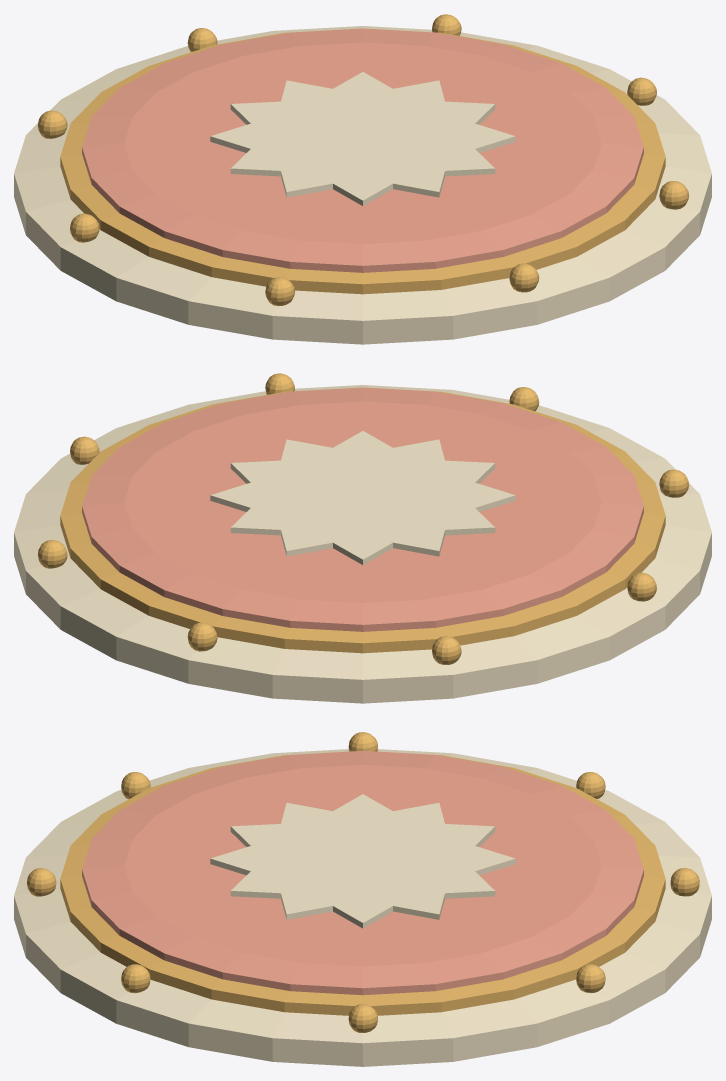
File: Sun_cooperation_pedestal.obj
3 views of the same model, one above another, from view 1: azimuth 30°, elevation 25°; view 2: azimuth 150°, elevation 25°; view 3: azimuth 270°, elevation 25° (orthographic).
Visible parts, largest first — view 1: Colored_ceramic, Carved_base, Raised_Sun, Inset_brass, Brass_rivet; view 2: Colored_ceramic, Carved_base, Raised_Sun, Inset_brass, Brass_rivet; view 3: Colored_ceramic, Carved_base, Raised_Sun, Inset_brass, Brass_rivet.
Boxes of the visible parts, bbox=[...] form: Colored_ceramic: bbox=[82, 28, 643, 272]; Carved_base: bbox=[14, 26, 711, 344]; Raised_Sun: bbox=[210, 72, 515, 205]; Inset_brass: bbox=[60, 28, 665, 294]; Brass_rivet: bbox=[38, 14, 689, 306]; Colored_ceramic: bbox=[82, 387, 643, 631]; Carved_base: bbox=[14, 385, 711, 703]; Raised_Sun: bbox=[210, 431, 515, 564]; Inset_brass: bbox=[60, 387, 665, 653]; Brass_rivet: bbox=[37, 373, 689, 664]; Colored_ceramic: bbox=[82, 751, 643, 995]; Carved_base: bbox=[14, 749, 711, 1066]; Raised_Sun: bbox=[210, 794, 515, 928]; Inset_brass: bbox=[60, 750, 665, 1015]; Brass_rivet: bbox=[27, 732, 699, 1032].
Size of the model in its own units: 2.56 by 0.2784 by 2.56.
